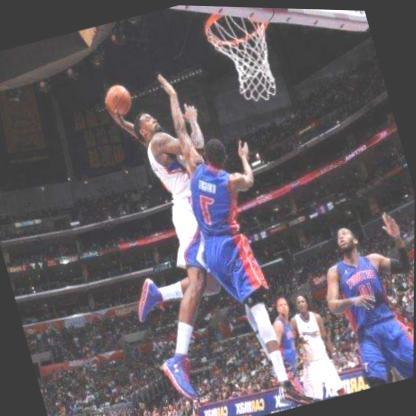basketball: (102, 80, 136, 119)
rim: (199, 5, 287, 109)
